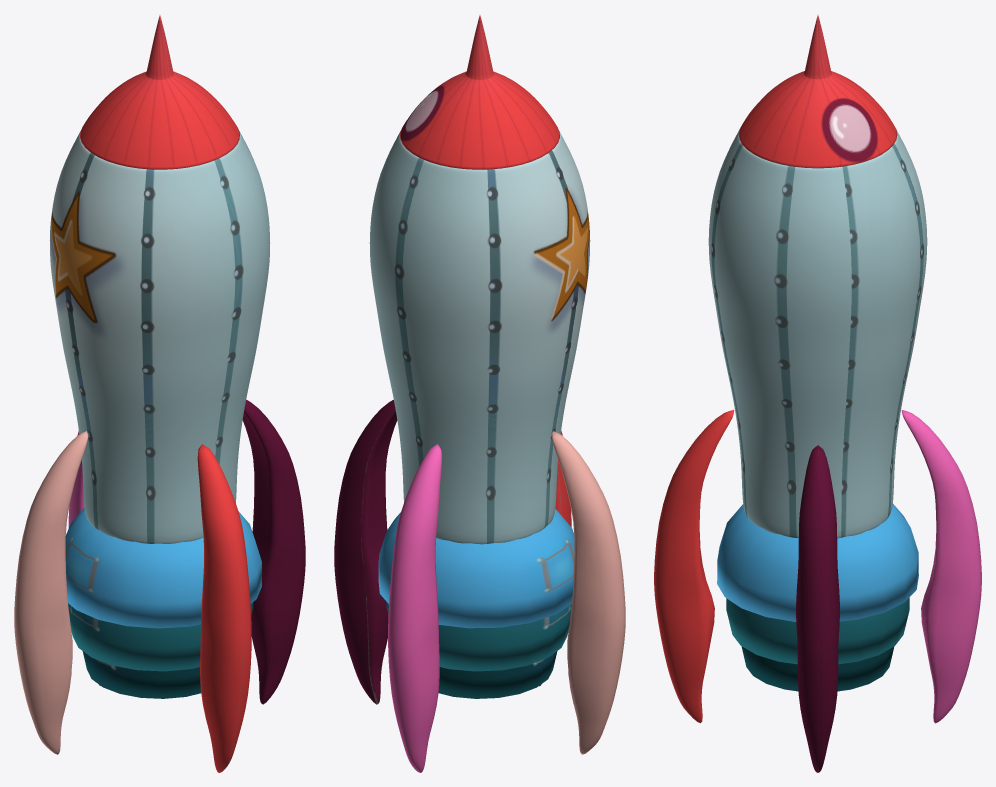
The model's file is Rocket_Hard_Final_1.fbx.
The picture shows the model from 3 angles, left to right: view 1: azimuth 30°, elevation 25°; view 2: azimuth 150°, elevation 25°; view 3: azimuth 270°, elevation 25°; orthographic projection.
Parts seen in each view (by area): view 1: Body_top, Body_bottom, stands_002, Booster1, stands_004, Cap, stands_001, Booster2, Booster3, stands_003; view 2: Body_top, Body_bottom, stands_002, Booster1, stands_003, Cap, stands_001, Booster2, Booster3, stands_004; view 3: Body_top, Body_bottom, Booster1, Cap, stands_003, stands_004, stands_001, Booster2, Booster3.
Part boxes in pixels (x1,y1,x2,y2): Body_top: [49, 131, 270, 356]; Body_bottom: [62, 340, 255, 543]; stands_002: [14, 431, 88, 754]; Booster1: [65, 508, 261, 628]; stands_004: [197, 444, 251, 772]; Cap: [80, 15, 239, 169]; stands_001: [242, 399, 305, 704]; Booster2: [68, 602, 253, 671]; Booster3: [82, 651, 201, 698]; stands_003: [68, 431, 100, 685]; Body_top: [369, 131, 590, 400]; Body_bottom: [389, 319, 581, 544]; stands_002: [551, 431, 625, 754]; Booster1: [378, 509, 574, 628]; stands_003: [388, 444, 441, 772]; Cap: [400, 15, 559, 169]; stands_001: [334, 400, 397, 704]; Booster2: [386, 602, 571, 671]; Booster3: [438, 651, 557, 698]; stands_004: [539, 431, 571, 686]; Body_top: [708, 130, 927, 402]; Body_bottom: [718, 323, 908, 538]; Booster1: [717, 503, 918, 621]; Cap: [738, 15, 897, 168]; stands_003: [901, 410, 981, 723]; stands_004: [654, 410, 734, 723]; stands_001: [796, 445, 839, 772]; Booster2: [726, 597, 909, 664]; Booster3: [741, 646, 894, 691].
Bounding box in the file's own units: 185 × 443 × 185.
Materials: 1 (1 with a texture image).
